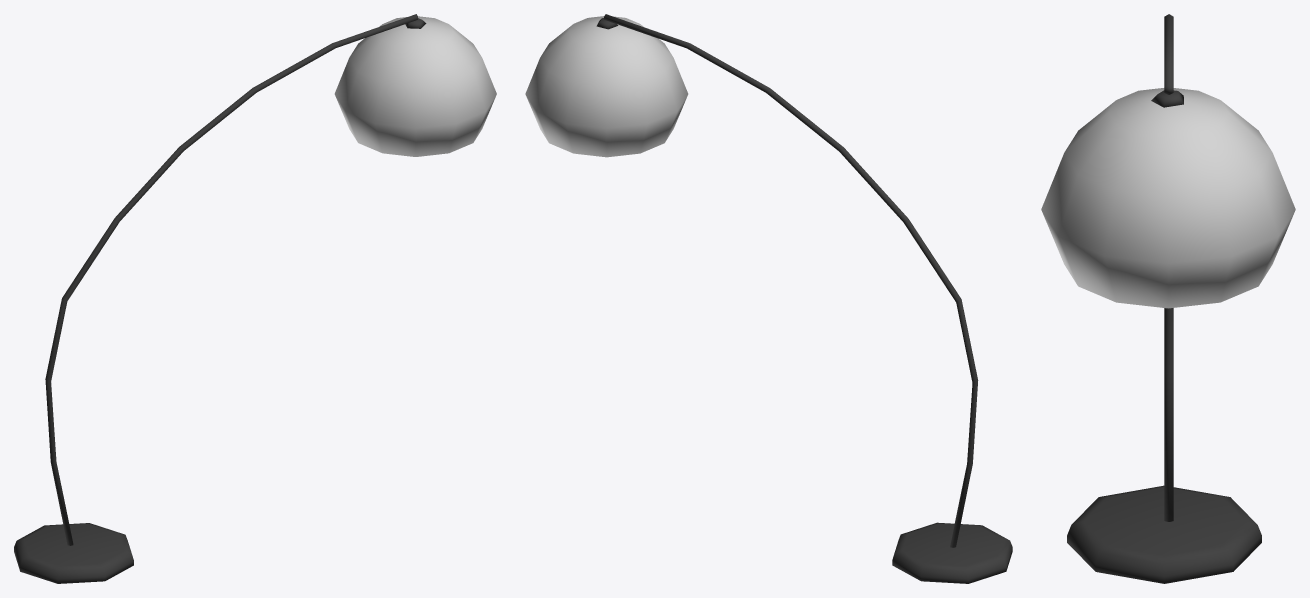
The model's file is Arc_Lamp_I.FBX.
3 renders of one model, left to right at view 1: azimuth 30°, elevation 25°; view 2: azimuth 150°, elevation 25°; view 3: azimuth 270°, elevation 25°, orthographic. The views are drawn at different scales.
Parts seen in each view (by area): view 1: Arc_Lamp; view 2: Arc_Lamp; view 3: Arc_Lamp.
Boxes of the visible parts, x1=… form: Arc_Lamp: x1=14, y1=14, x2=496, y2=583; Arc_Lamp: x1=525, y1=14, x2=1012, y2=583; Arc_Lamp: x1=1041, y1=14, x2=1295, y2=583.
Bounding box in the file's own units: 316 × 297 × 95.22.
